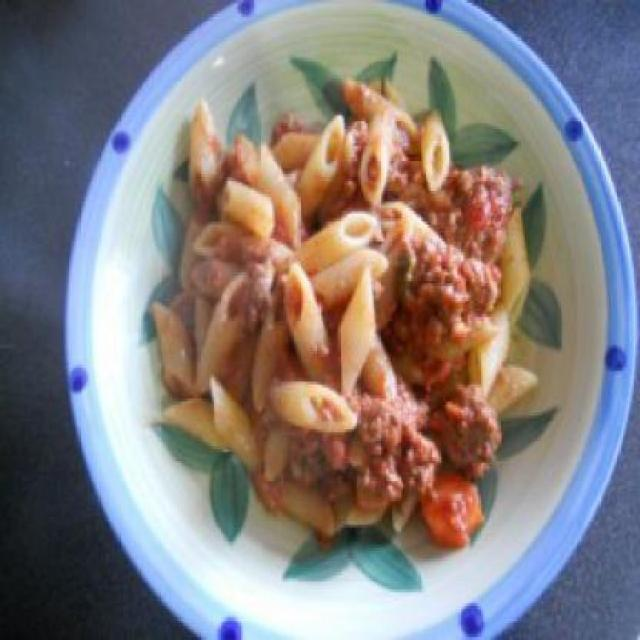Pasta al ragu: (147, 41, 561, 558)
